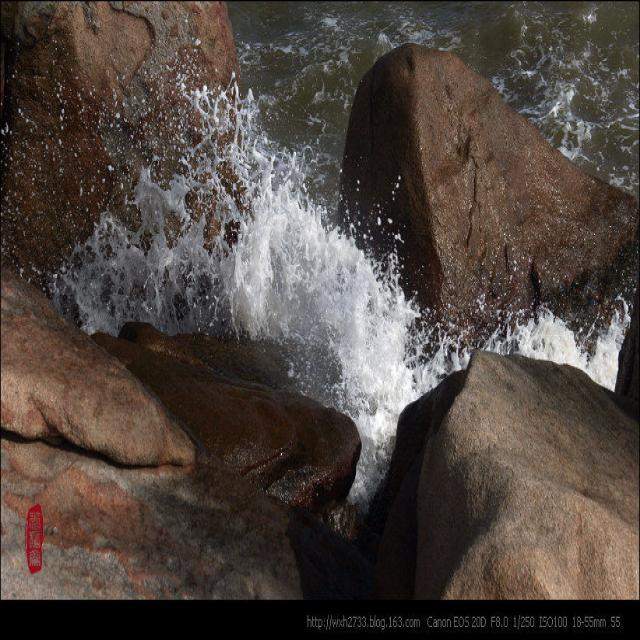reef: (122, 318, 618, 562), (318, 36, 612, 333)
